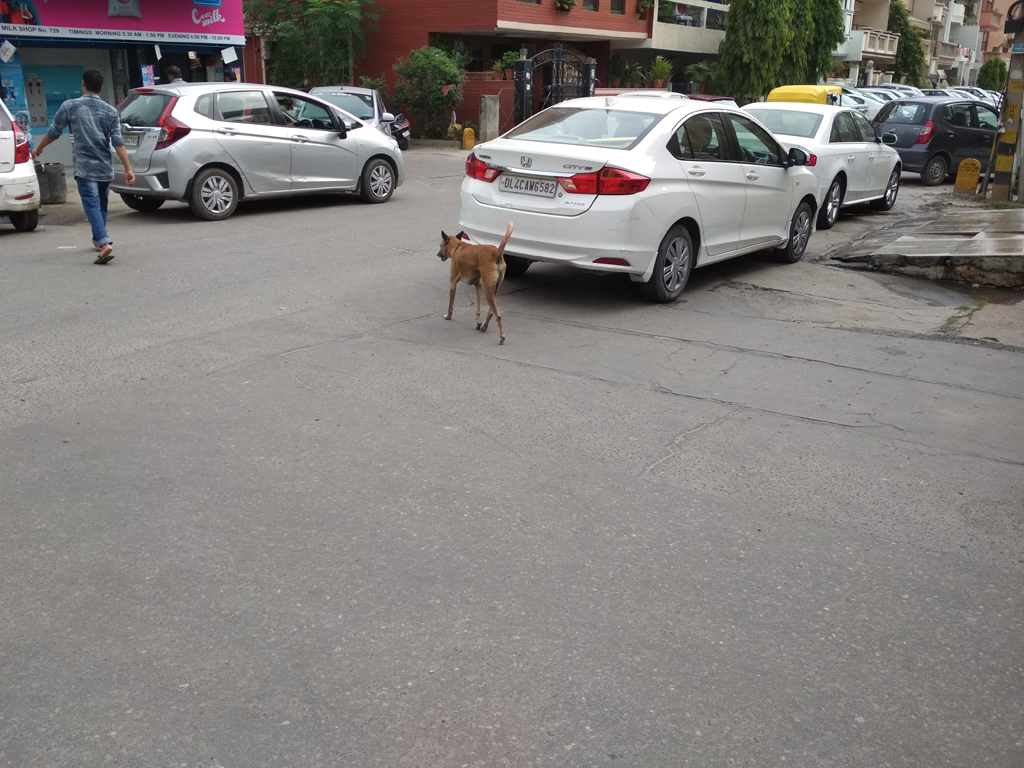dog: (438, 219, 518, 344)
